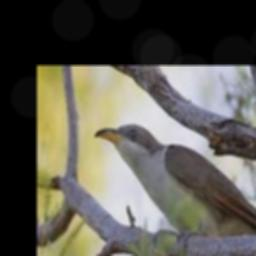Cuckoo: (95, 123, 256, 237)
